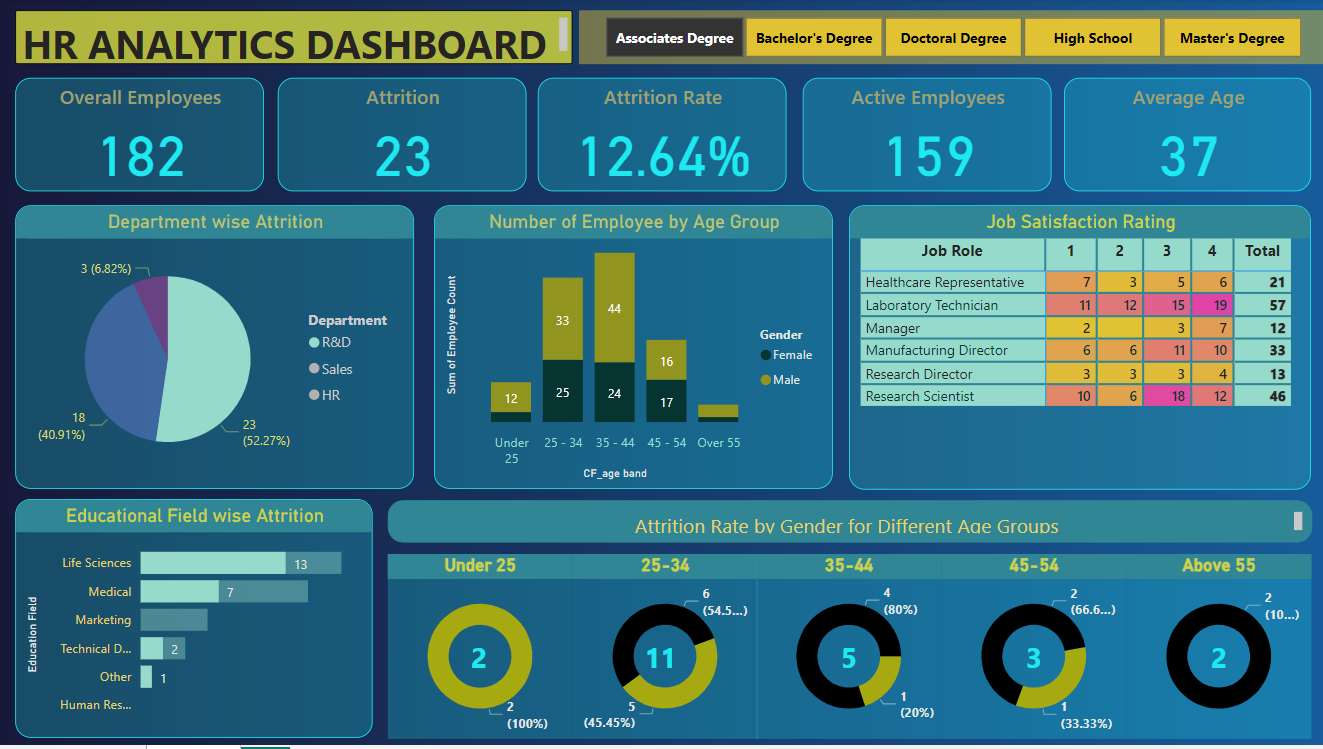

The page's visual inventory and layout, read from the dashboard file:
{"tool":"powerbi","page":{"name":"Page 1","canvas":[1280,720],"ordinal":0},"visuals":[{"type":"card","title":"Overall Employees","fields":{"Values":["Sum(HR data.Employee Count)"]},"box":[15.7,76,240,109.7],"z":0},{"type":"card","title":"Attrition","fields":{"Values":["Sum(HR data.Attrition Count)"]},"box":[268.9,76,240,109.7],"z":1000},{"type":"card","title":"Attrition Rate","fields":{"Values":["HR data.Attrition Rate"]},"box":[519.8,76,240,109.7],"z":2000},{"type":"card","title":"Active Employees","fields":{"Values":["HR data.Avtive Employees"]},"box":[775.3,75.5,240.1,109.8],"z":3000},{"type":"card","title":"Average Age","fields":{"Values":["Avg(HR data.Age)"]},"box":[1027.8,75.5,238.8,109.8],"z":4000},{"type":"pieChart","title":"Department wise Attrition","fields":{"Category":["HR data.Department"],"Y":["Sum(HR data.Attrition Count)"]},"box":[15.7,199,384.7,273.8],"z":5000},{"type":"columnChart","title":"Number of Employee by Age Group","fields":{"Category":["HR data.CF_age band"],"Y":["Sum(HR data.Employee Count)"],"Series":["HR data.Gender"]},"box":[419.7,199,384.7,273.8],"z":6000},{"type":"pivotTable","title":"Job Satisfaction Rating","fields":{"Rows":["HR data.Job Role"],"Columns":["HR data.Job Satisfaction"],"Values":["Sum(HR data.Employee Count)"]},"box":[820.6,199,446,274.4],"z":7000},{"type":"barChart","title":"Educational Field wise Attrition","fields":{"Category":["HR data.Education Field"],"Y":["Sum(HR data.Attrition Count)"]},"box":[15.7,482.4,345,230],"z":8000},{"type":"donutChart","title":"Under 25","fields":{"Category":["HR data.Gender"],"Y":["Sum(HR data.Attrition Count)"],"Series":["HR data.CF_age band"]},"box":[374.6,535.2,178.4,178.4],"z":9000},{"type":"textbox","box":[374.6,483,891.9,41.2],"z":10000},{"type":"donutChart","title":"25-34","fields":{"Category":["HR data.Gender"],"Y":["Sum(HR data.Attrition Count)"],"Series":["HR data.CF_age band"]},"box":[553,535.2,178.4,178.4],"z":11000},{"type":"donutChart","title":"35-44","fields":{"Category":["HR data.Gender"],"Y":["Sum(HR data.Attrition Count)"],"Series":["HR data.CF_age band"]},"box":[731.4,535.2,178.4,178.4],"z":12000},{"type":"donutChart","title":"45-54","fields":{"Category":["HR data.Gender"],"Y":["Sum(HR data.Attrition Count)"],"Series":["HR data.CF_age band"]},"box":[909.8,535.2,178.4,178.4],"z":13000},{"type":"donutChart","title":"Above 55","fields":{"Category":["HR data.Gender"],"Y":["Sum(HR data.Attrition Count)"],"Series":["HR data.CF_age band"]},"box":[1088.2,535.2,178.4,178.4],"z":14000},{"type":"card","fields":{"Values":["Sum(HR data.Attrition Count)"]},"box":[441.9,614.8,43.9,42.5],"z":15000},{"type":"card","fields":{"Values":["Sum(HR data.Attrition Count)"]},"box":[609.3,614.8,59,42.5],"z":16000},{"type":"card","fields":{"Values":["Sum(HR data.Attrition Count)"]},"box":[798.6,614.8,43.9,42.5],"z":17000},{"type":"card","fields":{"Values":["Sum(HR data.Attrition Count)"]},"box":[977,614.8,43.9,42.5],"z":18000},{"type":"card","fields":{"Values":["Sum(HR data.Attrition Count)"]},"box":[1155.4,614.8,43.9,42.5],"z":19000},{"type":"textbox","box":[15.1,11,537.9,52.1],"z":20000},{"type":"slicer","fields":{"Values":["HR data.Education"]},"box":[559.9,11,720.4,52.1],"z":21000}]}

Visuals, with their boxes in screenshot pixels (x1, y1, x2, y2), scaled from the page's 1280x720 canvas onto the 1323x749 screenshot:
"Overall Employees" card: (left=16, top=79, right=264, bottom=193)
"Attrition" card: (left=278, top=79, right=526, bottom=193)
"Attrition Rate" card: (left=537, top=79, right=785, bottom=193)
"Active Employees" card: (left=801, top=79, right=1050, bottom=193)
"Average Age" card: (left=1062, top=79, right=1309, bottom=193)
"Department wise Attrition" pieChart: (left=16, top=207, right=414, bottom=492)
"Number of Employee by Age Group" columnChart: (left=434, top=207, right=831, bottom=492)
"Job Satisfaction Rating" pivotTable: (left=848, top=207, right=1309, bottom=492)
"Educational Field wise Attrition" barChart: (left=16, top=502, right=373, bottom=741)
"Under 25" donutChart: (left=387, top=557, right=572, bottom=742)
textbox: (left=387, top=502, right=1309, bottom=545)
"25-34" donutChart: (left=572, top=557, right=756, bottom=742)
"35-44" donutChart: (left=756, top=557, right=940, bottom=742)
"45-54" donutChart: (left=940, top=557, right=1125, bottom=742)
"Above 55" donutChart: (left=1125, top=557, right=1309, bottom=742)
card - Sum(HR data.Attrition Count): (left=457, top=640, right=502, bottom=684)
card - Sum(HR data.Attrition Count): (left=630, top=640, right=691, bottom=684)
card - Sum(HR data.Attrition Count): (left=825, top=640, right=871, bottom=684)
card - Sum(HR data.Attrition Count): (left=1010, top=640, right=1055, bottom=684)
card - Sum(HR data.Attrition Count): (left=1194, top=640, right=1240, bottom=684)
textbox: (left=16, top=11, right=572, bottom=66)
slicer - HR data.Education: (left=579, top=11, right=1322, bottom=66)
